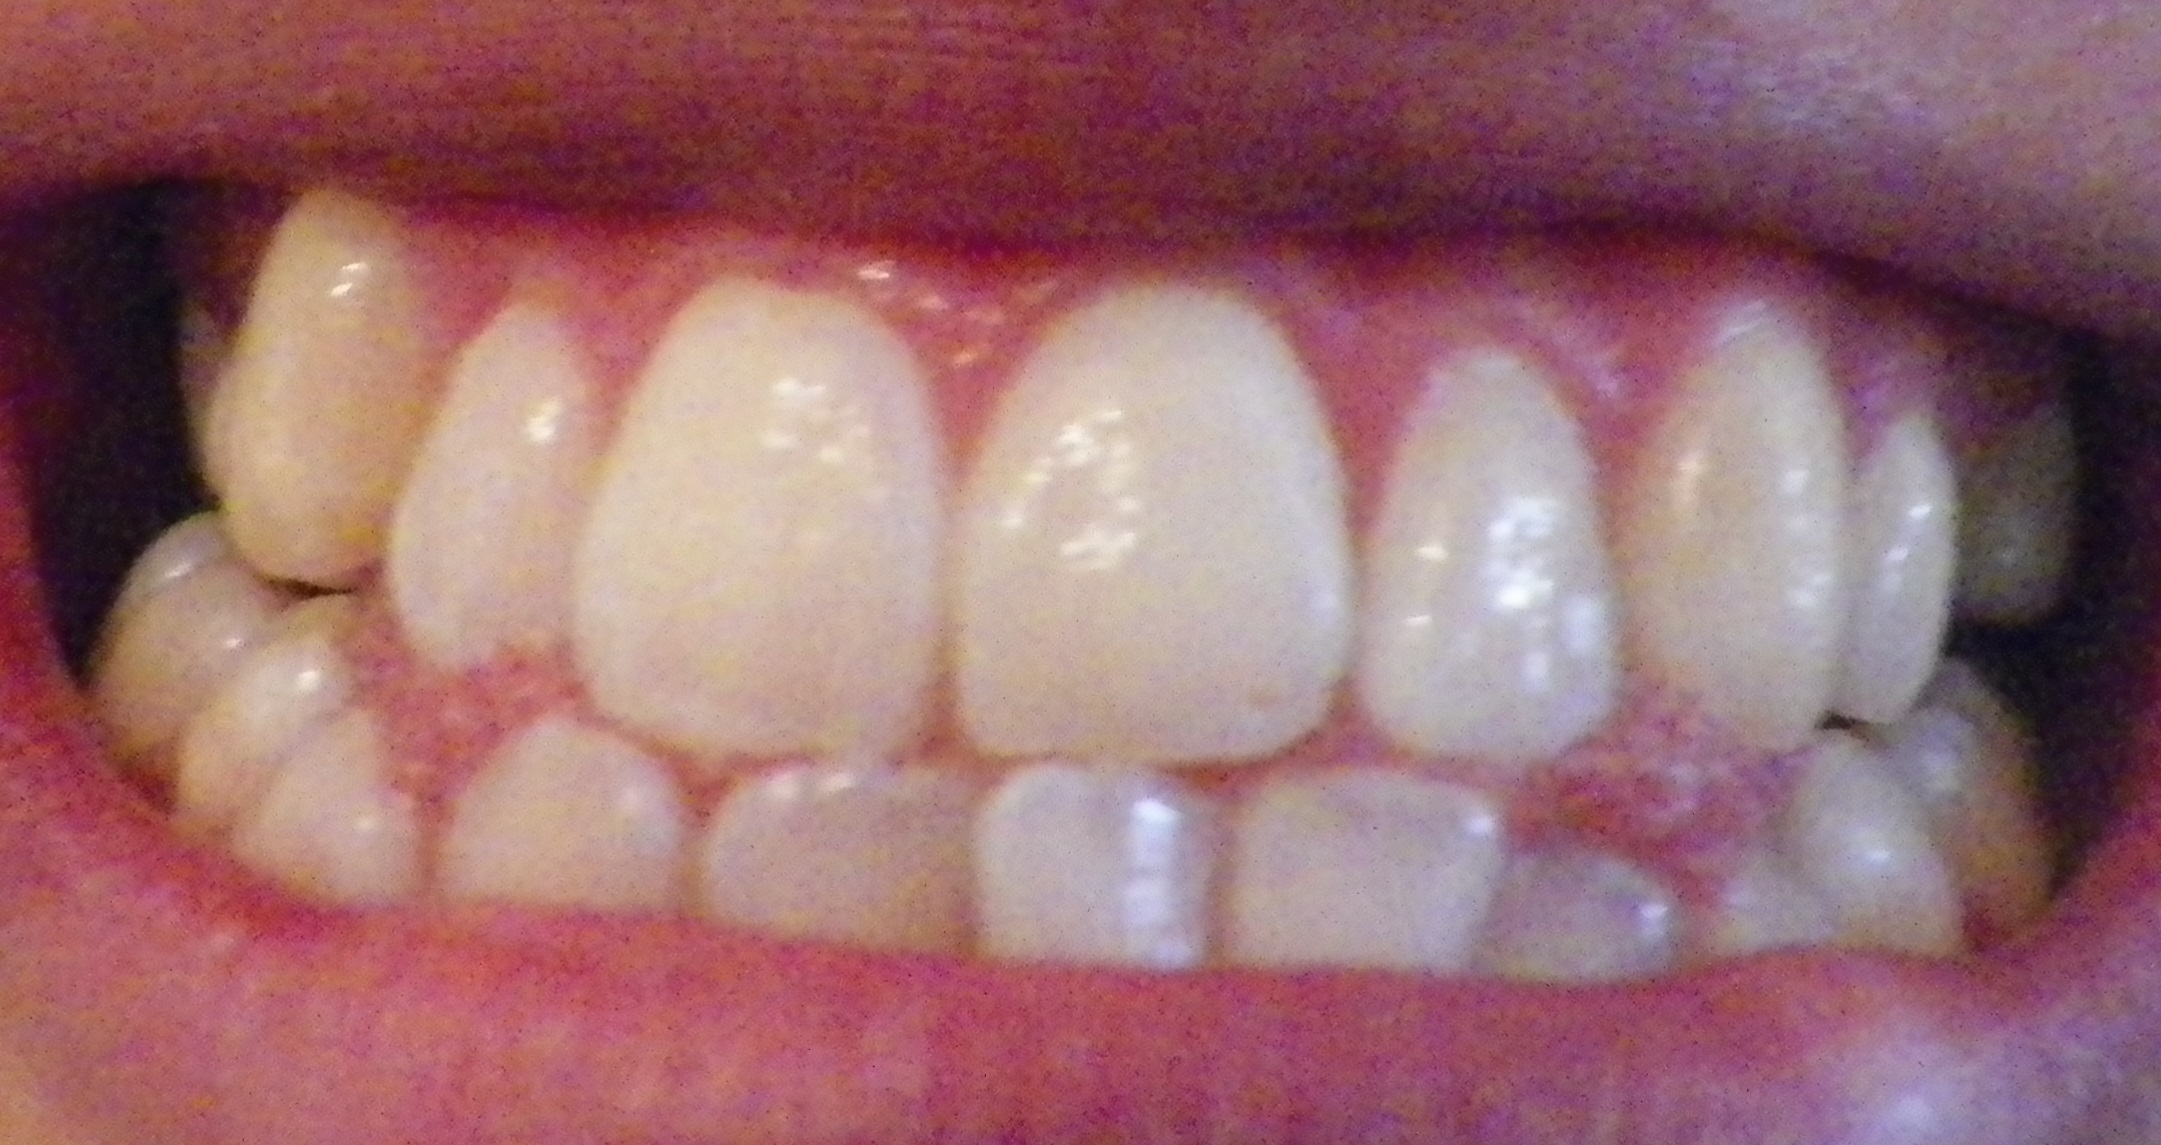boca: (116, 182, 2072, 978)
